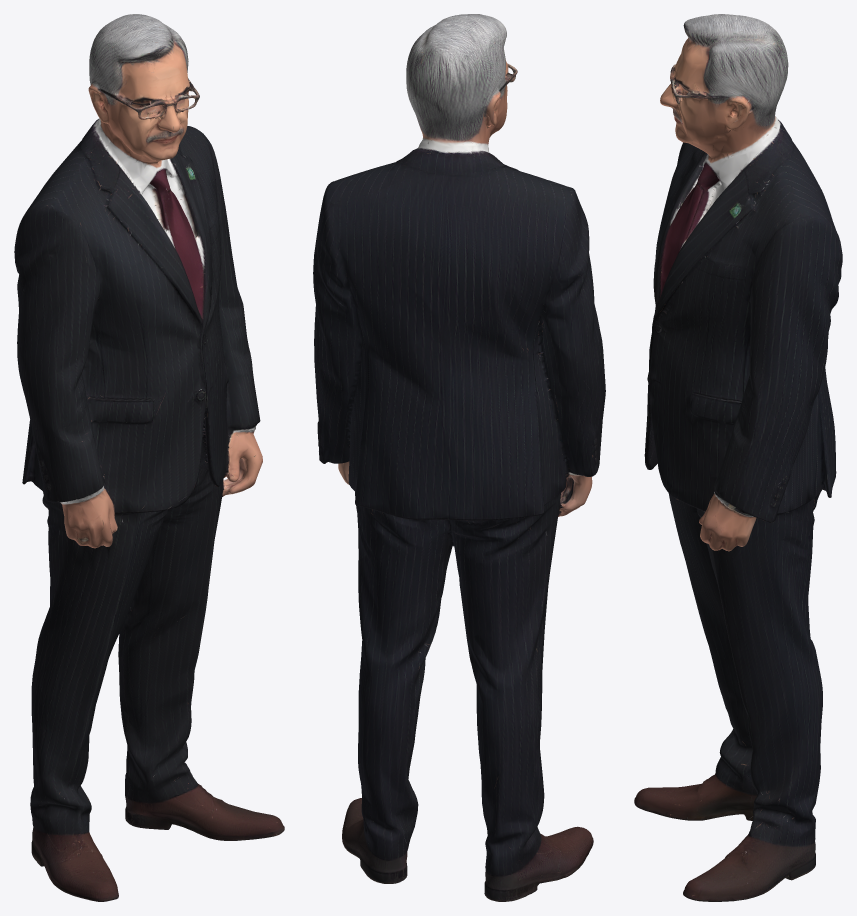
Rendered from nasser.glb.
3 renders of one model, left to right at view 1: azimuth 30°, elevation 25°; view 2: azimuth 150°, elevation 25°; view 3: azimuth 270°, elevation 25°, orthographic.
Visible parts, largest first — view 1: Mesh_0; view 2: Mesh_0; view 3: Mesh_0.
Boxes of the visible parts, left/top/right/bottom form: Mesh_0: left=14, top=14, right=284, bottom=901; Mesh_0: left=313, top=14, right=605, bottom=901; Mesh_0: left=634, top=14, right=842, bottom=901.
Size of the model in its own units: 0.6013 by 1.91 by 0.4354.
Materials: 1 (1 with a texture image).
